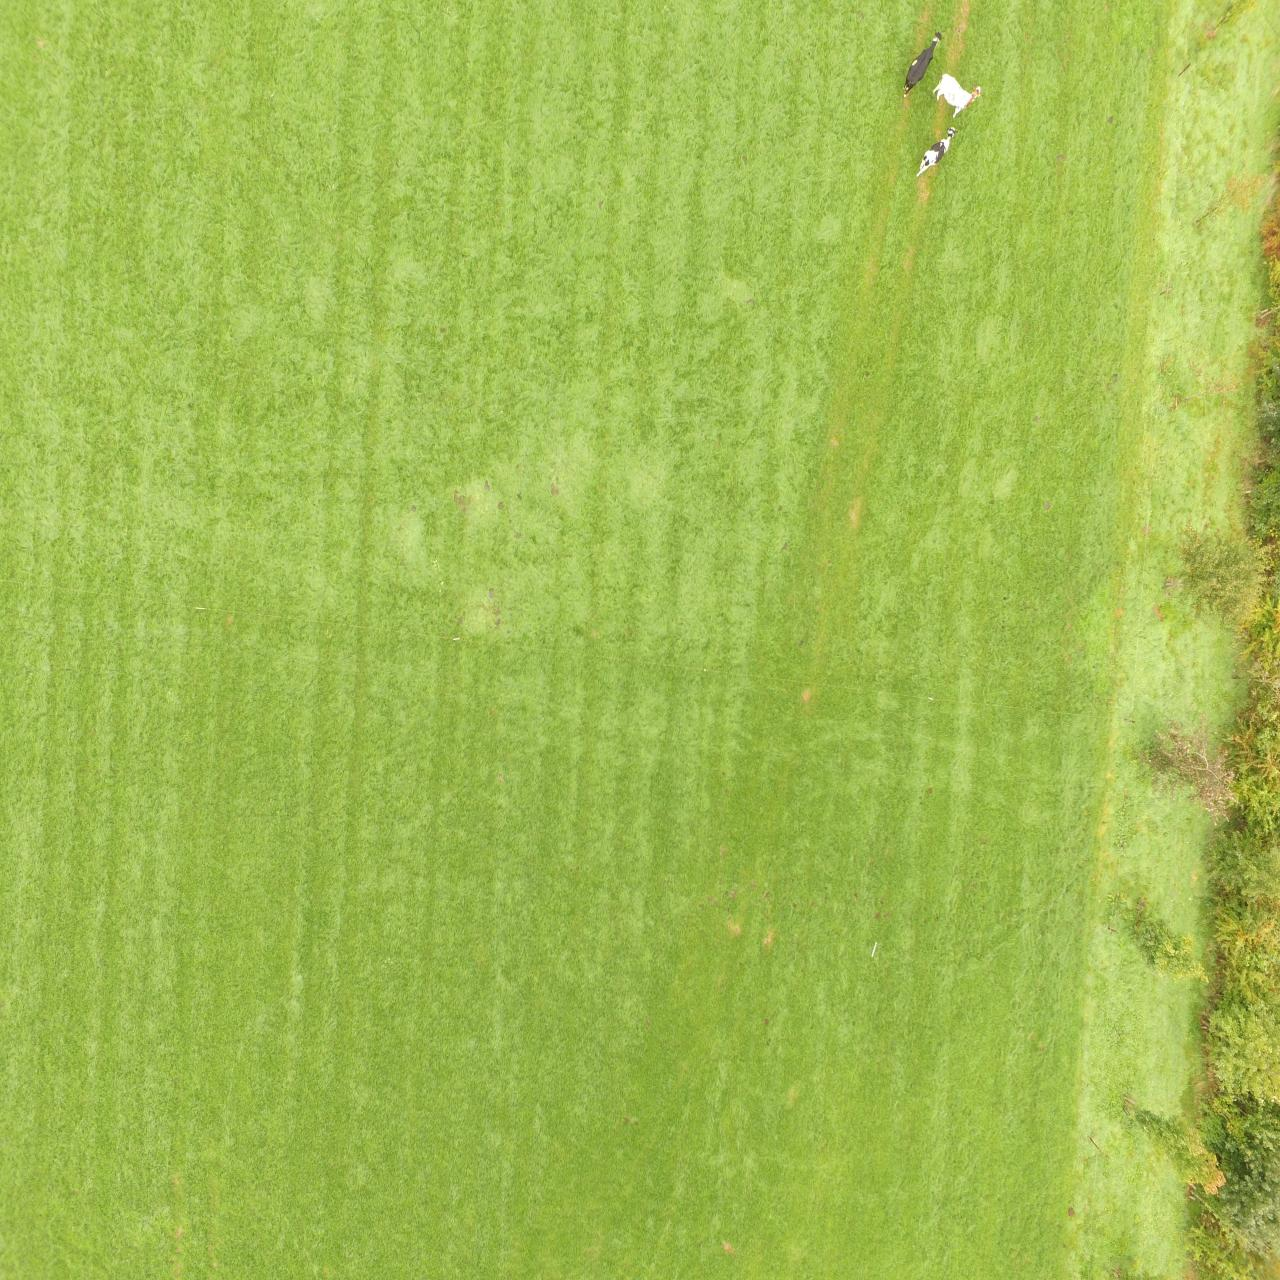cow: (903, 30, 942, 98), (931, 72, 982, 120), (915, 125, 958, 177)
